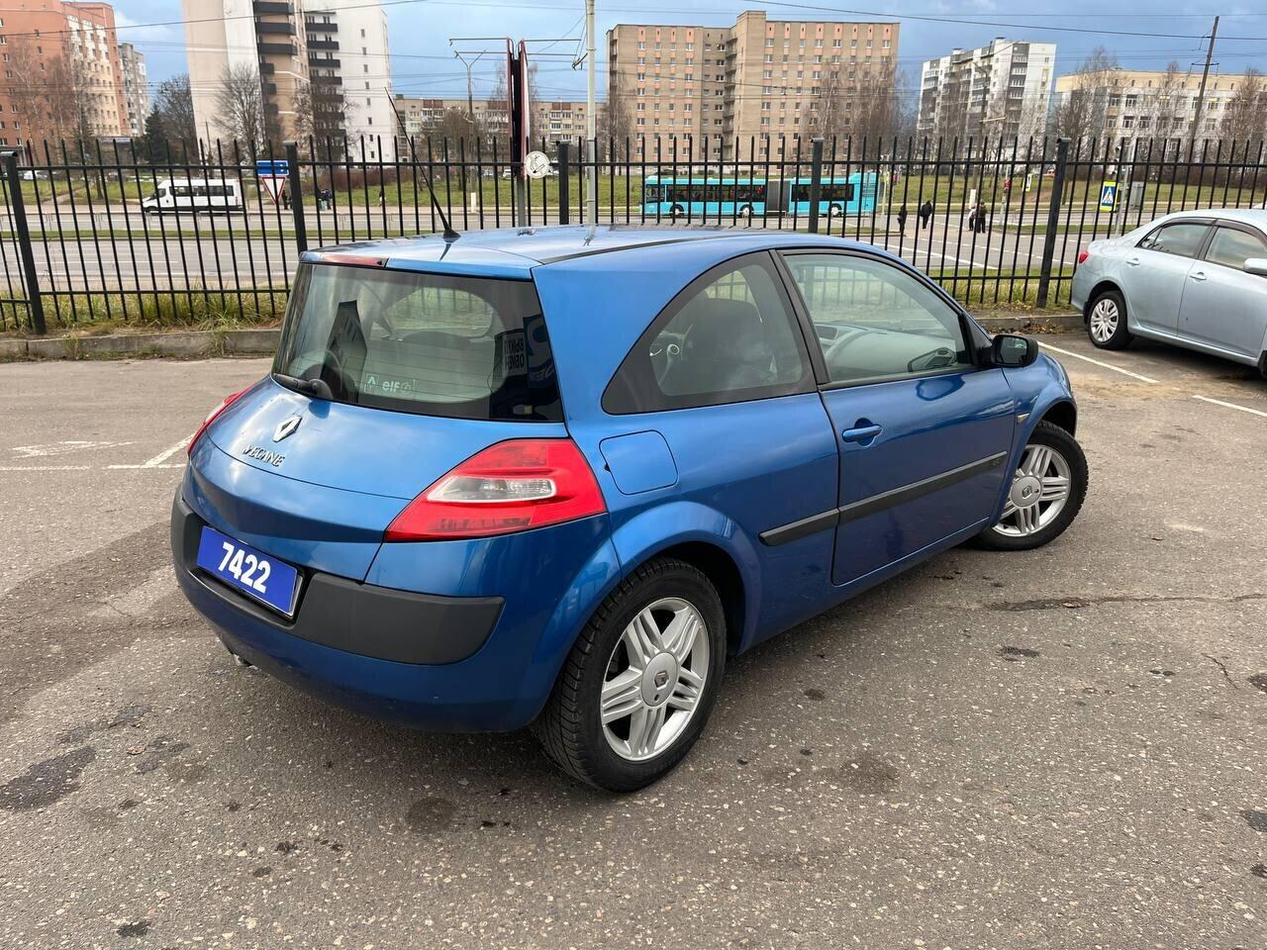Megane_2002-2006: (165, 214, 1091, 792)
